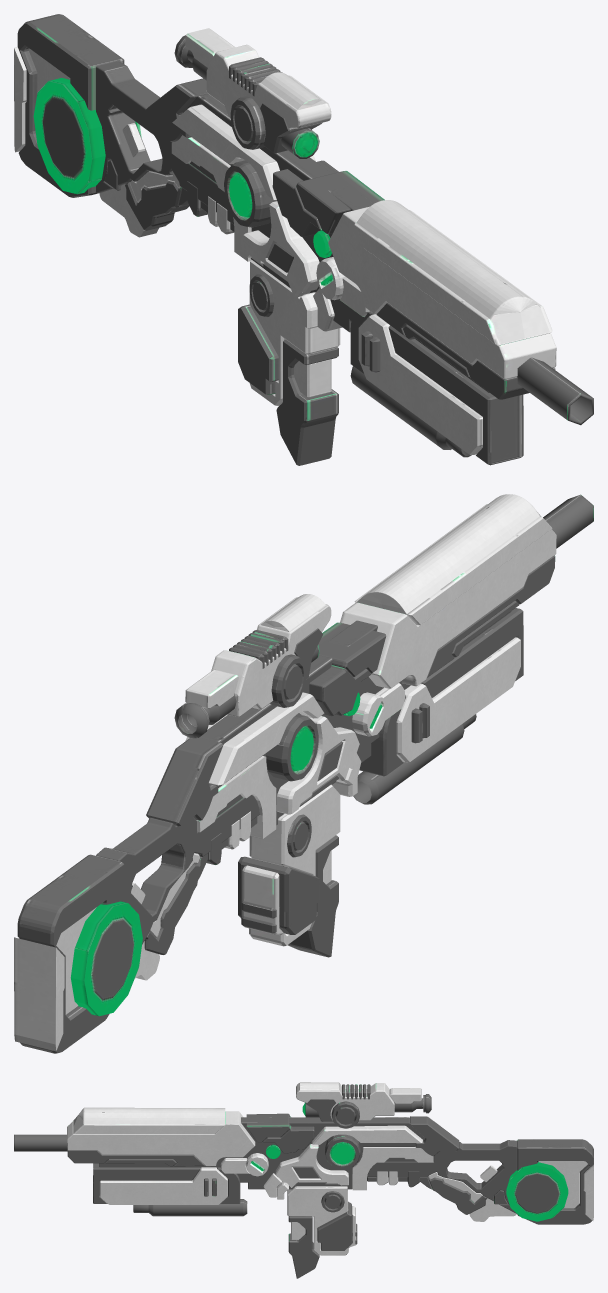
Rendered from icegun.glb.
3 renders of one model, top to bottom at view 1: azimuth 30°, elevation 25°; view 2: azimuth 150°, elevation 25°; view 3: azimuth 270°, elevation 25°, orthographic. The views are drawn at different scales.
Visible parts, largest first — view 1: Object_3, Object_5, Object_4, Object_2; view 2: Object_3, Object_5, Object_4, Object_2; view 3: Object_3, Object_5, Object_4, Object_2.
Boxes of the visible parts, bbox=[...] form: Object_3: bbox=[14, 28, 556, 454]; Object_5: bbox=[17, 14, 555, 465]; Object_4: bbox=[174, 35, 593, 457]; Object_2: bbox=[33, 78, 333, 285]; Object_3: bbox=[14, 494, 556, 1051]; Object_5: bbox=[17, 555, 555, 1053]; Object_4: bbox=[174, 494, 593, 804]; Object_2: bbox=[70, 692, 382, 1016]; Object_3: bbox=[67, 1082, 593, 1255]; Object_5: bbox=[67, 1084, 593, 1278]; Object_4: bbox=[14, 1094, 431, 1216]; Object_2: bbox=[251, 1142, 568, 1221].
Size of the model in its own units: 0.5345 by 2.91 by 7.98.
1 material, 1 textured.
